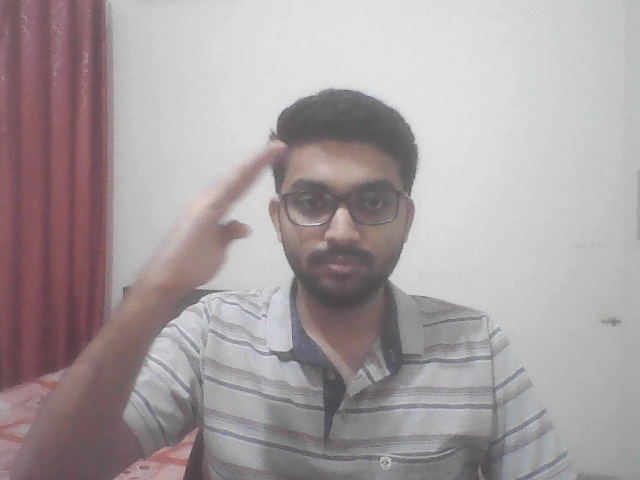hello: (124, 128, 288, 364)
